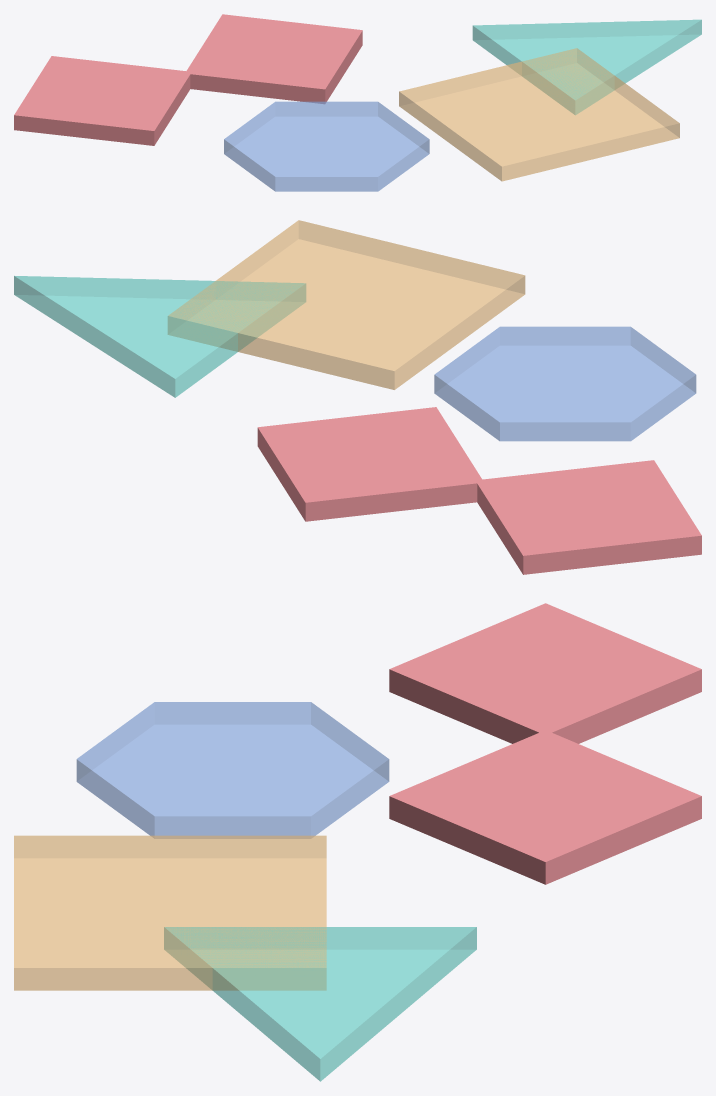
Rendered from elicottero_step5.glb.
3 views of the same model, one above another, from view 1: azimuth 30°, elevation 25°; view 2: azimuth 150°, elevation 25°; view 3: azimuth 270°, elevation 25° (orthographic). The views are drawn at different scales.
Parts seen in each view (by area): view 1: quadrato_piccolo, esagono, triangolo_isoscele_piccolo, rombo, rombo.001; view 2: quadrato_piccolo, esagono, triangolo_isoscele_piccolo, rombo, rombo.001; view 3: quadrato_piccolo, esagono, rombo.001, triangolo_isoscele_piccolo, rombo.
Boxes of the visible parts, box(x1,y1,x2,y2) form: quadrato_piccolo: box(399, 48, 679, 181); esagono: box(224, 101, 429, 191); triangolo_isoscele_piccolo: box(472, 19, 701, 114); rombo: box(14, 56, 190, 145); rombo.001: box(185, 14, 362, 103); quadrato_piccolo: box(168, 220, 525, 389); esagono: box(434, 326, 696, 441); triangolo_isoscele_piccolo: box(14, 275, 305, 397); rombo: box(475, 460, 701, 574); rombo.001: box(257, 407, 482, 521); quadrato_piccolo: box(14, 835, 326, 990); esagono: box(76, 702, 389, 838); rombo.001: box(389, 730, 701, 884); triangolo_isoscele_piccolo: box(164, 927, 476, 1081); rombo: box(389, 603, 701, 743).
Bounding box in the file's own units: 3.45 × 0.08 × 2.2.
